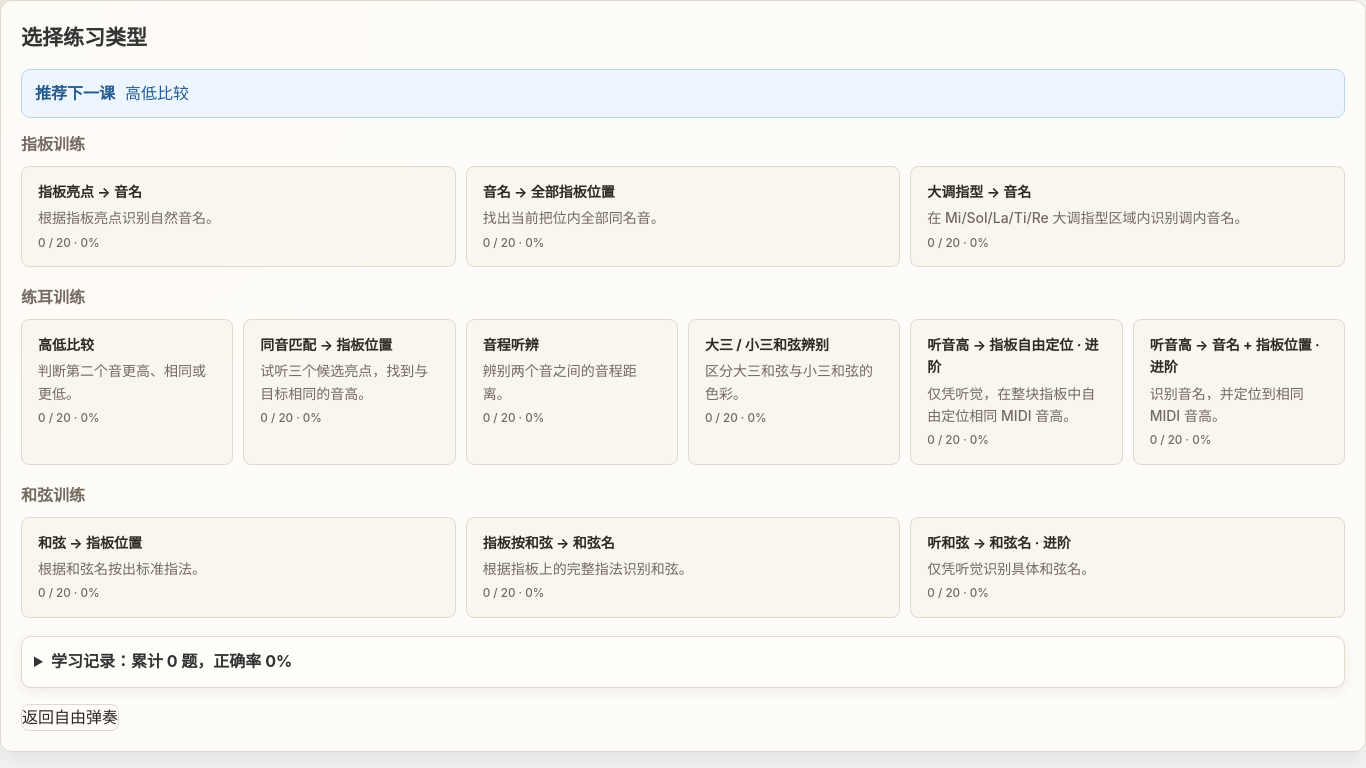
Test case: PracticeMode › groups the exercise cards and the active selector consistently
This screenshot has width=1366, height=768.
Expected: the heading "指板训练" is shown, [21,134,85,154]
Expected: the heading "练耳训练" is shown, [21,287,85,307]
Click the button "高低比较 判断第二个音更高、相同或更低。 0 / 20 · 0%" at (127, 392), box [21,319,233,465]
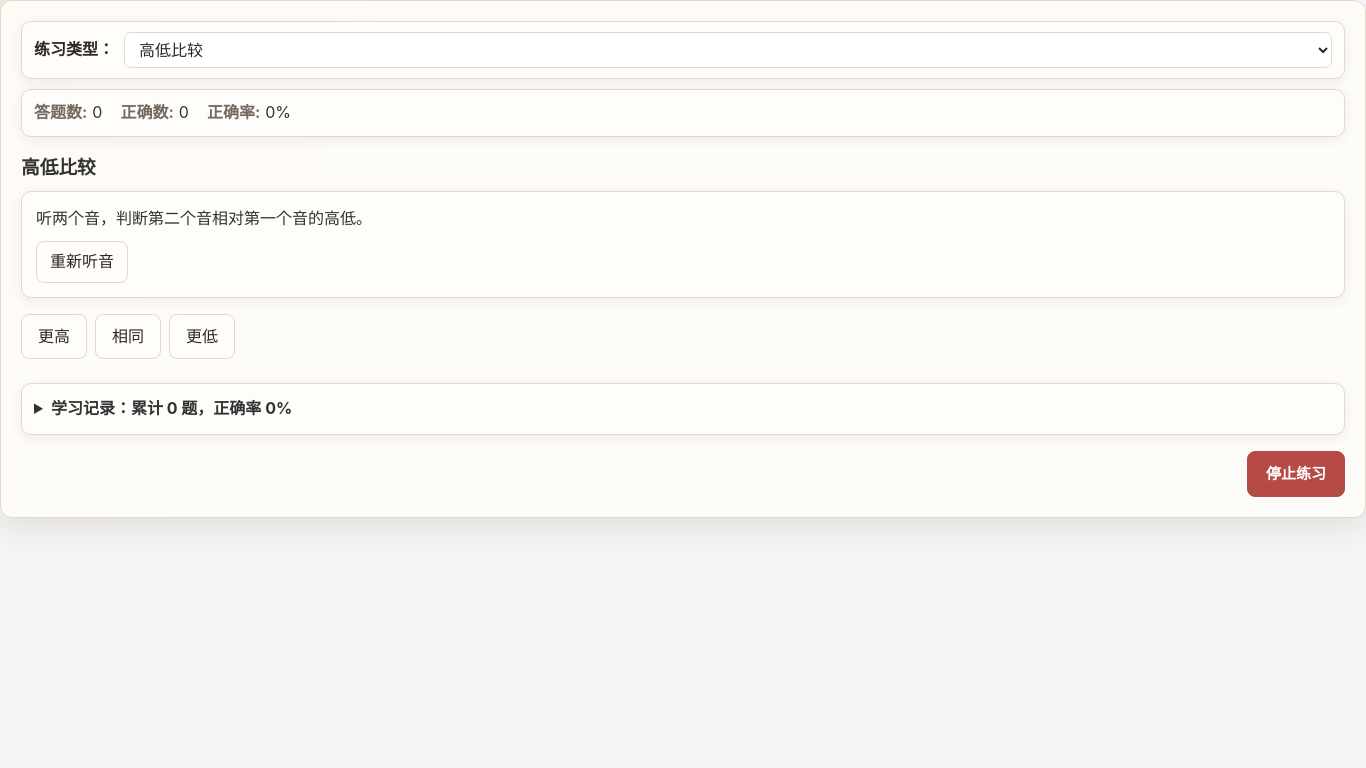
Now the button "重新听音" is shown, box [36,241,128,283]
